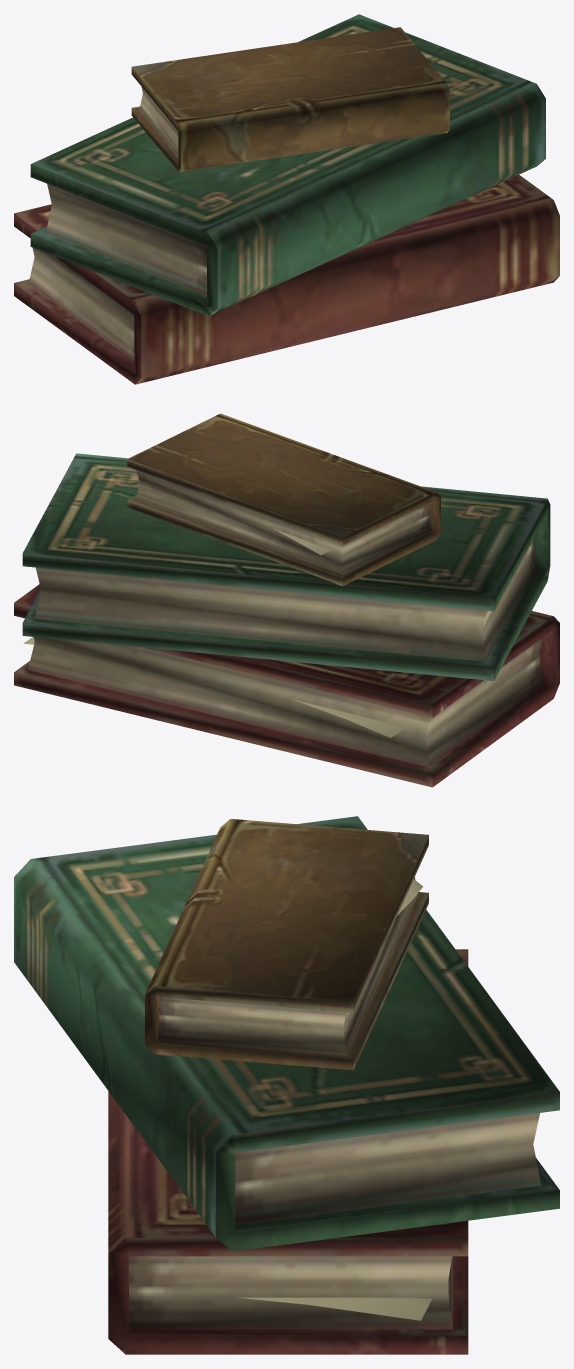
The model's file is generalbookstackshort01.obj.
3 views of the same model, one above another, from view 1: azimuth 30°, elevation 25°; view 2: azimuth 150°, elevation 25°; view 3: azimuth 270°, elevation 25° (orthographic). The views are drawn at different scales.
Visible parts, largest first — view 1: generalbookstackshort01.m2; view 2: generalbookstackshort01.m2; view 3: generalbookstackshort01.m2.
Part boxes in pixels (bbox=[...]): generalbookstackshort01.m2: bbox=[14, 14, 559, 384]; generalbookstackshort01.m2: bbox=[14, 413, 559, 787]; generalbookstackshort01.m2: bbox=[14, 816, 559, 1354].
Size of the model in its own units: 0.7955 by 0.3501 by 0.5722.
1 material, 1 textured.
